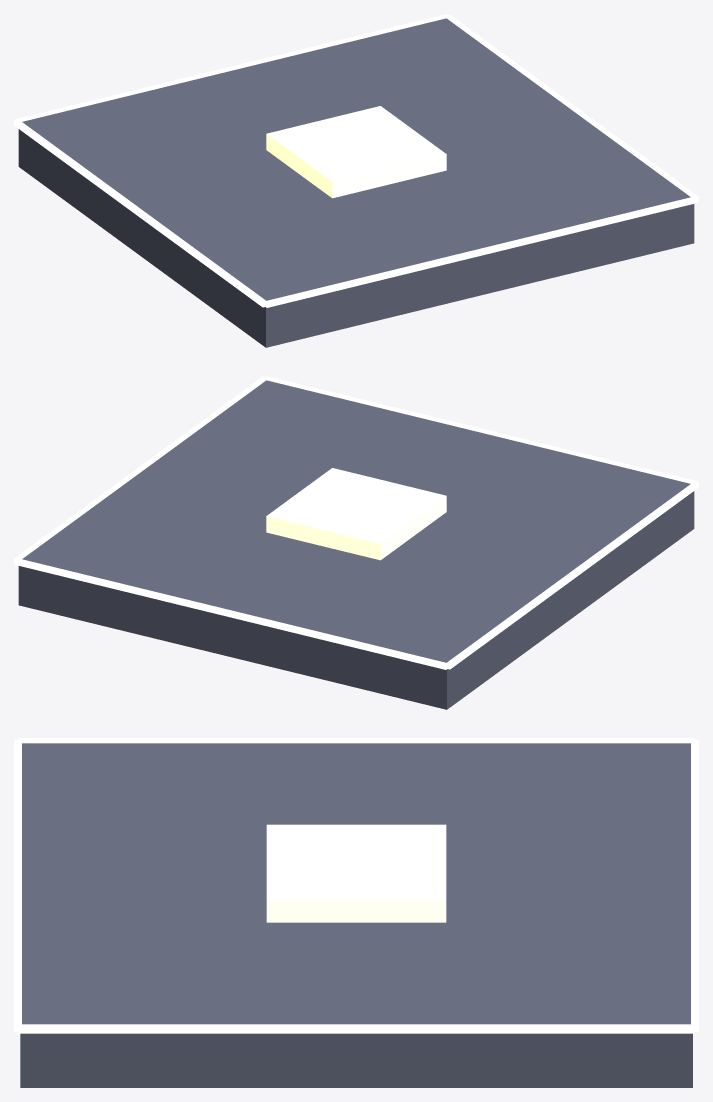
File: tower_twist.glb
The picture shows the model from 3 angles, top to bottom: view 1: azimuth 30°, elevation 25°; view 2: azimuth 150°, elevation 25°; view 3: azimuth 270°, elevation 25°; orthographic projection. The views are drawn at different scales.
Parts seen in each view (by area): view 1: PodiumBase, PenthouseWindows, PodiumGlowS, PodiumGlowW, PodiumGlowN, PodiumGlowE, Beacon; view 2: PodiumBase, PenthouseWindows, PodiumGlowN, PodiumGlowW, PodiumGlowS, PodiumGlowE, Beacon; view 3: PodiumBase, PenthouseWindows, PodiumGlowE, PodiumGlowW, PodiumGlowN, PodiumGlowS, Beacon.
Part boxes in pixels (x1,y1,x2,y2): PodiumBase: (18,18,694,347); PenthouseWindows: (266,106,446,198); PodiumGlowS: (264,196,697,307); PodiumGlowW: (14,120,265,307); PodiumGlowN: (15,14,447,121); PodiumGlowE: (446,14,698,201); Beacon: (342,116,370,144); PodiumBase: (18,380,694,709); PenthouseWindows: (266,468,446,560); PodiumGlowN: (15,558,448,669); PodiumGlowW: (447,482,698,669); PodiumGlowS: (265,376,697,483); PodiumGlowE: (14,376,266,563); Beacon: (342,478,370,506); PodiumBase: (20,743,692,1087); PenthouseWindows: (266,824,446,922); PodiumGlowE: (18,1024,694,1033); PodiumGlowW: (18,738,694,743); PodiumGlowN: (691,739,698,1031); PodiumGlowS: (14,739,21,1031); Beacon: (338,825,374,862).
Size of the model in its own units: 30.55 by 5.95 by 30.55.
